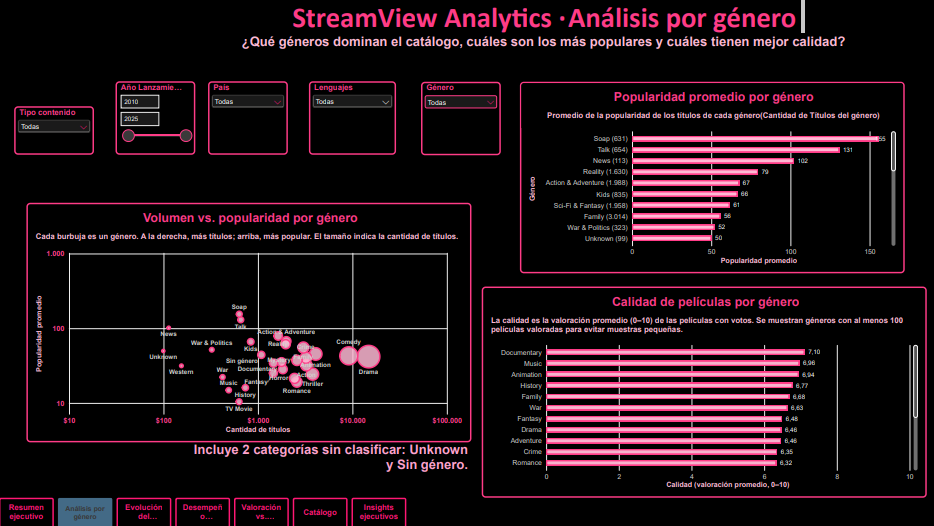

What the dashboard file says about the page in this screenshot:
{"tool":"powerbi","page":{"name":"Análisis por género","canvas":[1920,1080],"ordinal":1},"visuals":[{"type":"textbox","box":[479.6,0,1055.6,70.4],"z":0},{"type":"textbox","box":[427,85,1272.5,46.7],"z":1000},{"type":"slicer","fields":{"Values":["catalogo.content_type"]},"box":[31.4,218.4,162.7,99.2],"z":2000},{"type":"slicer","fields":{"Values":["catalogo.release_year"]},"box":[237.5,167.4,163,150],"z":3000},{"type":"slicer","fields":{"Values":["catalogo.pais_principal"]},"box":[426.6,167.4,163,150],"z":4000},{"type":"slicer","fields":{"Values":["catalogo.language"]},"box":[632.6,167.4,178,150],"z":5000},{"type":"slicer","fields":{"Values":["catalogo.genero"]},"box":[862.5,167.8,163,150],"z":6000},{"type":"clusteredBarChart","title":"Popularidad promedio por género","fields":{"Category":["catalogo.genero"],"Y":["catalogo.Popularidad por género"]},"box":[1064.3,167.8,786,390.9],"z":7000},{"type":"scatterChart","title":"Volumen vs. popularidad por género","fields":{"Category":["catalogo.genero"],"Size":["catalogo.Contenidos"],"X":["catalogo.Contenidos"],"Y":["catalogo.Popularidad por género"]},"box":[51,514.1,909.2,488.6],"z":8000},{"type":"clusteredBarChart","title":"Calidad de películas por género","fields":{"Category":["catalogo.genero"],"Y":["catalogo.Calidad películas"]},"box":[985.7,586.3,909.2,431.2],"z":9000},{"type":"actionButton","box":[1801.9,1.9,100,40],"z":9001},{"type":"actionButton","box":[0,0,100,40],"z":9002}]}

Visuals, with their boxes on the page's 1920x1080 design canvas (x1, y1, x2, y2). These are canvas units, not pixel positions in the 934x526 screenshot, which may show the page scaled, cropped or inside an application window:
textbox: {"x1": 480, "y1": 0, "x2": 1535, "y2": 70}
textbox: {"x1": 427, "y1": 85, "x2": 1700, "y2": 132}
slicer - catalogo.content_type: {"x1": 31, "y1": 218, "x2": 194, "y2": 318}
slicer - catalogo.release_year: {"x1": 238, "y1": 167, "x2": 400, "y2": 317}
slicer - catalogo.pais_principal: {"x1": 427, "y1": 167, "x2": 590, "y2": 317}
slicer - catalogo.language: {"x1": 633, "y1": 167, "x2": 811, "y2": 317}
slicer - catalogo.genero: {"x1": 862, "y1": 168, "x2": 1026, "y2": 318}
"Popularidad promedio por género" clusteredBarChart: {"x1": 1064, "y1": 168, "x2": 1850, "y2": 559}
"Volumen vs. popularidad por género" scatterChart: {"x1": 51, "y1": 514, "x2": 960, "y2": 1003}
"Calidad de películas por género" clusteredBarChart: {"x1": 986, "y1": 586, "x2": 1895, "y2": 1018}
actionButton: {"x1": 1802, "y1": 2, "x2": 1902, "y2": 42}
actionButton: {"x1": 0, "y1": 0, "x2": 100, "y2": 40}
